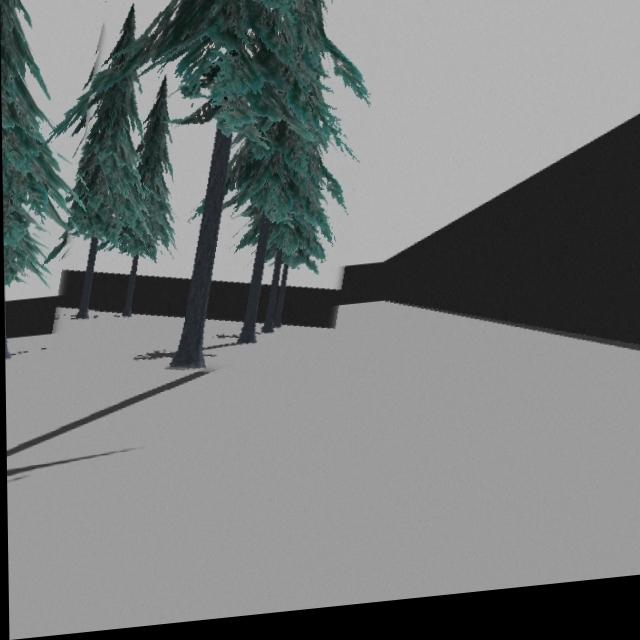tree: (89, 0, 371, 375)
